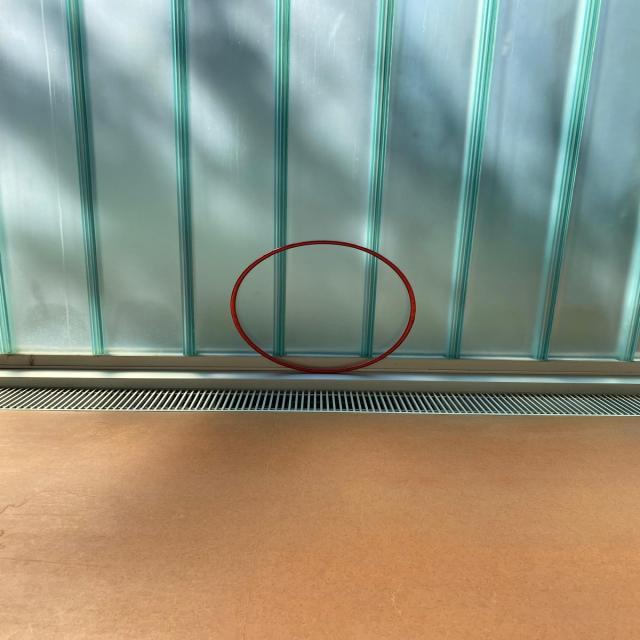Circle: (226, 237, 420, 374)
